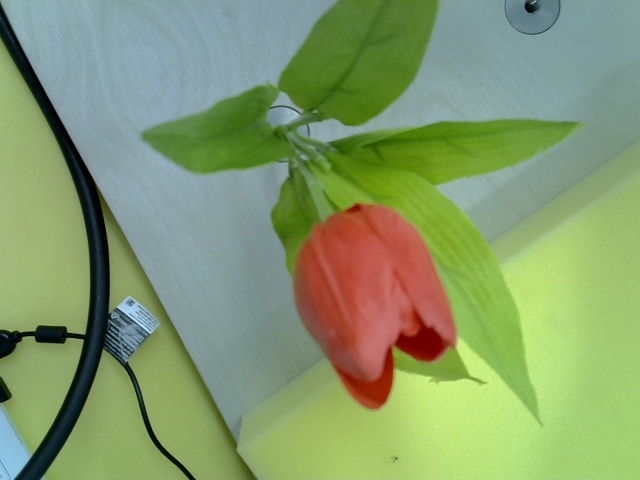튤립: (292, 201, 459, 412)
